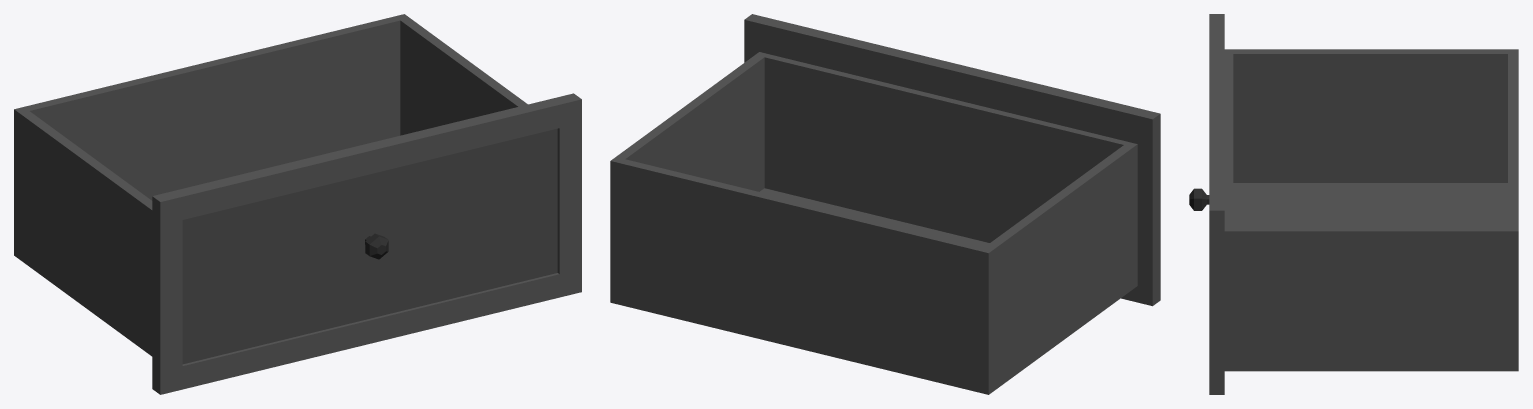
The model's file is TV_Table2_C2_02.fbx.
3 views of the same model, side by side, from view 1: azimuth 30°, elevation 25°; view 2: azimuth 150°, elevation 25°; view 3: azimuth 270°, elevation 25° (orthographic). The views are drawn at different scales.
Visible parts, largest first — view 1: TV_Table2_C2_02; view 2: TV_Table2_C2_02; view 3: TV_Table2_C2_02.
Part boxes in pixels (x1,y1,x2,y2): TV_Table2_C2_02: (14, 14, 581, 394); TV_Table2_C2_02: (610, 14, 1160, 394); TV_Table2_C2_02: (1189, 14, 1518, 394).
Bounding box in the file's own units: 59.97 × 26.22 × 42.47.
